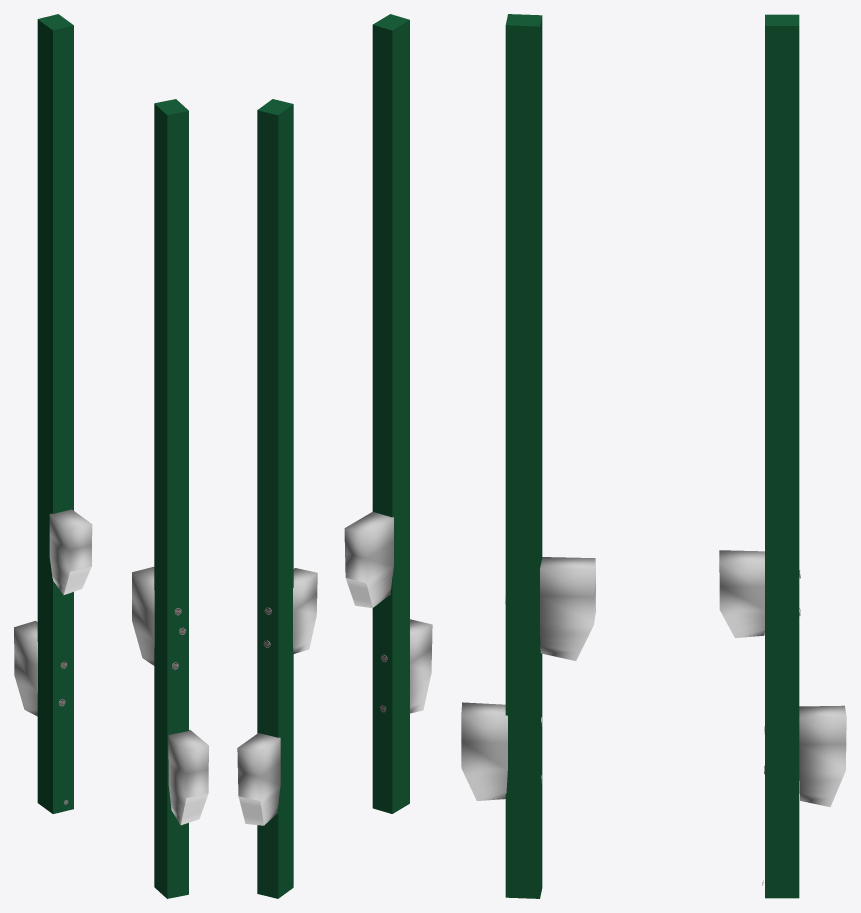
Rendered from VERSION 2.fbx.
3 views of the same model, side by side, from view 1: azimuth 30°, elevation 25°; view 2: azimuth 150°, elevation 25°; view 3: azimuth 270°, elevation 25° (orthographic). The views are drawn at different scales.
Parts seen in each view (by area): view 1: Cube, Cube.001, Cube.004, Cube.020, Cube.002, Cube.003; view 2: Cube.001, Cube, Cube.003, Cube.002, Cube.020, Cube.004; view 3: Cube.001, Cube, Cube.003, Cube.002, Cube.004, Cube.020.
Boxes of the visible parts, x1,y1,x2,y2 form: Cube: (37,14,73,813); Cube.001: (154,99,188,898); Cube.004: (168,730,208,825); Cube.020: (49,509,92,594); Cube.002: (14,620,37,716); Cube.003: (132,566,154,665); Cube.001: (372,14,409,813); Cube: (257,99,293,898); Cube.003: (344,511,393,607); Cube.002: (237,733,280,825); Cube.020: (293,568,317,653); Cube.004: (410,619,432,713); Cube.001: (505,14,542,898); Cube: (765,14,799,898); Cube.003: (540,557,595,660); Cube.002: (799,705,846,806); Cube.004: (461,702,507,800); Cube.020: (719,550,764,637).
Size of the model in its own units: 35.19 by 908 by 363.
